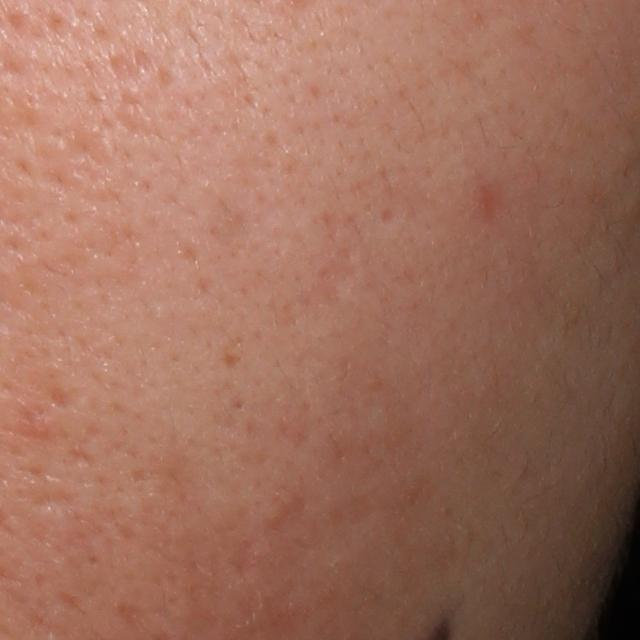atrophic_scar: (102, 45, 159, 133), (23, 489, 83, 514), (51, 383, 78, 415), (220, 345, 244, 372)
